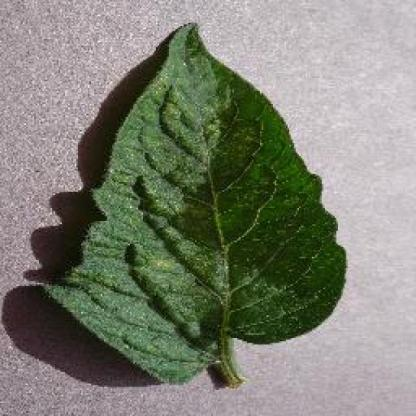Tomato_Spider_Mites: (46, 21, 338, 382)
